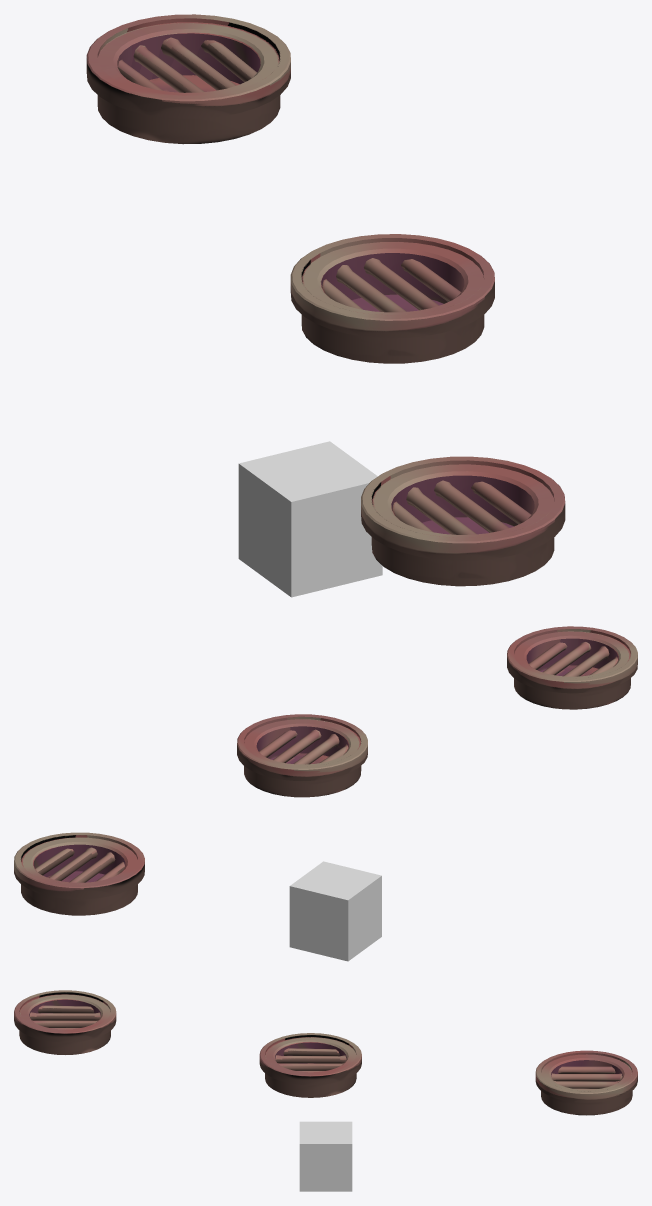
File: battlescence-2-floor005.fbx
3 renders of one model, top to bottom at view 1: azimuth 30°, elevation 25°; view 2: azimuth 150°, elevation 25°; view 3: azimuth 270°, elevation 25°, orthographic. The views are drawn at different scales.
Visible parts, largest first — view 1: Cylinder.016, Cylinder.001, Cylinder.018, battlescence-2-floor005; view 2: Cylinder.001, Cylinder.016, Cylinder.018, battlescence-2-floor005; view 3: Cylinder.018, Cylinder.001, Cylinder.016, battlescence-2-floor005.
Boxes of the visible parts, x1=… form: Cylinder.016: x1=361, y1=456, x2=565, y2=586; Cylinder.001: x1=290, y1=234, x2=494, y2=363; Cylinder.018: x1=86, y1=14, x2=290, y2=144; battlescence-2-floor005: x1=238, y1=441, x2=382, y2=597; Cylinder.001: x1=237, y1=714, x2=367, y2=797; Cylinder.016: x1=507, y1=626, x2=637, y2=709; Cylinder.018: x1=14, y1=832, x2=144, y2=915; battlescence-2-floor005: x1=289, y1=861, x2=381, y2=961; Cylinder.018: x1=535, y1=1050, x2=637, y2=1115; Cylinder.001: x1=259, y1=1033, x2=361, y2=1097; Cylinder.016: x1=14, y1=990, x2=116, y2=1054; battlescence-2-floor005: x1=299, y1=1121, x2=352, y2=1191.
Bounding box in the file's own units: 931 × 598 × 2369.
